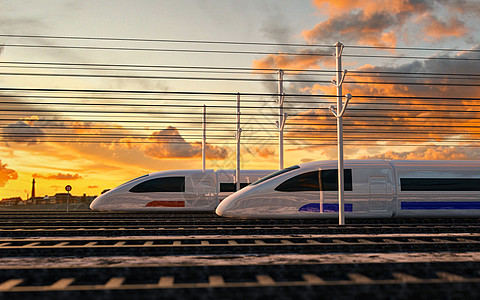hsrw: (215, 158, 479, 220), (88, 165, 218, 216)
